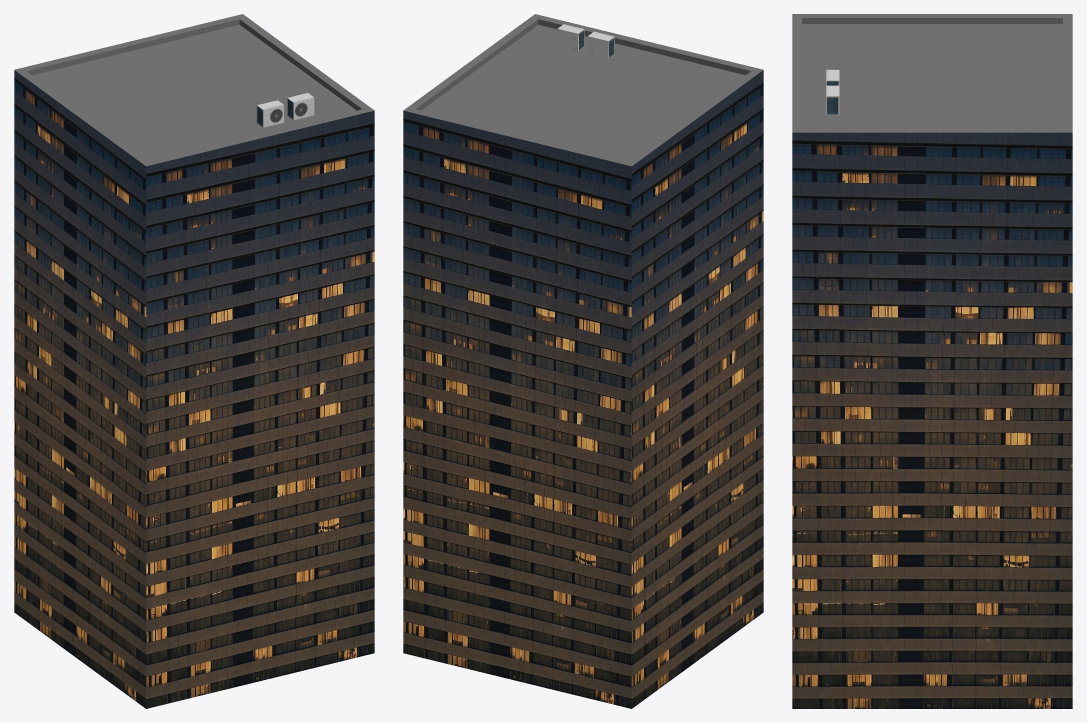
The model's file is building.glb.
The picture shows the model from 3 angles, left to right: view 1: azimuth 30°, elevation 25°; view 2: azimuth 150°, elevation 25°; view 3: azimuth 270°, elevation 25°; orthographic projection. The views are drawn at different scales.
Visible parts, largest first — view 1: Building; view 2: Building; view 3: Building.
Boxes of the visible parts, x1=… form: Building: x1=14, y1=14, x2=374, y2=708; Building: x1=403, y1=14, x2=763, y2=708; Building: x1=792, y1=14, x2=1072, y2=708.
Bounding box in the file's own units: 37.45 × 86.87 × 37.45.
Materials: 3 (2 with a texture image).
